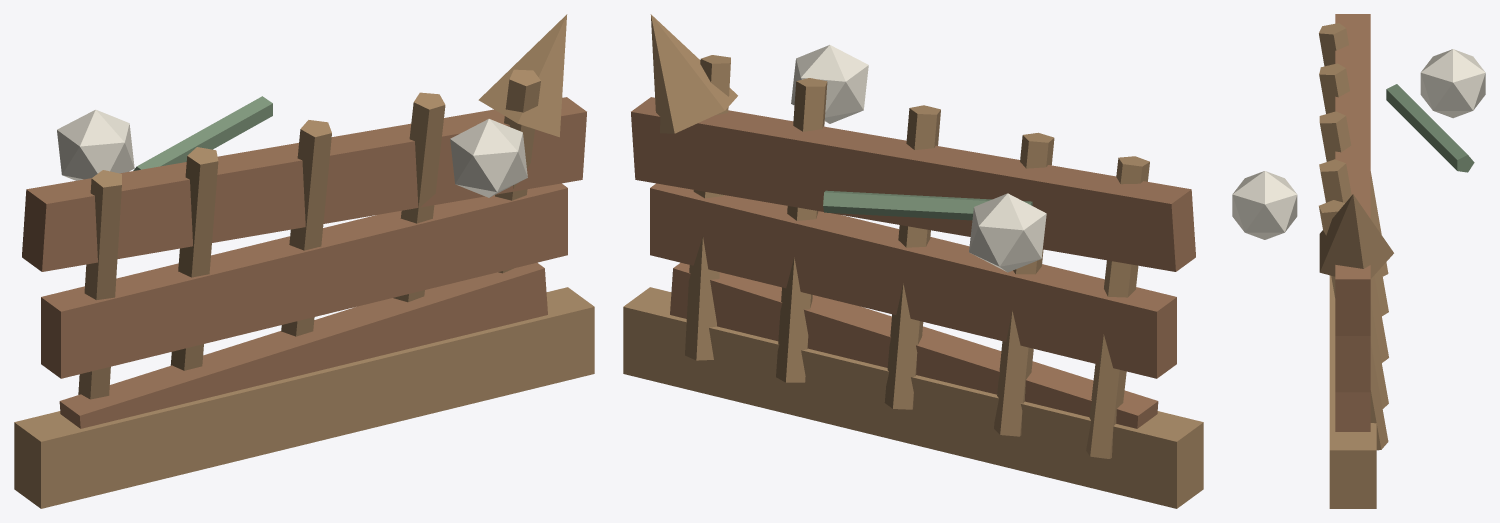
Rendered from wreck_hull_section.glb.
3 renders of one model, left to right at view 1: azimuth 30°, elevation 25°; view 2: azimuth 150°, elevation 25°; view 3: azimuth 270°, elevation 25°, orthographic. The views are drawn at different scales.
Visible parts, largest first — view 1: keel, plank_1, plank_2, plank_0, barnacle_1, splinter, rib_0, barnacle_0, rib_1, rib_2, rib_3, rope (+1 smaller); view 2: plank_1, plank_2, keel, plank_0, splinter, rib_2, rib_3, rib_0, barnacle_0, rib_1, rib_4, barnacle_1 (+1 smaller); view 3: plank_2, keel, splinter, barnacle_0, barnacle_1, rope, plank_1, rib_2, rib_3, rib_4, rib_1, plank_0 (+1 smaller).
Boxes of the visible parts, bbox=[...] form: keel: bbox=[14, 287, 594, 508]; plank_1: bbox=[41, 183, 567, 378]; plank_2: bbox=[22, 97, 586, 271]; plank_0: bbox=[59, 262, 547, 428]; barnacle_1: bbox=[450, 119, 527, 197]; splinter: bbox=[478, 14, 567, 137]; rib_0: bbox=[78, 170, 121, 399]; barnacle_0: bbox=[57, 109, 134, 180]; rib_1: bbox=[170, 147, 218, 370]; rib_2: bbox=[281, 120, 331, 336]; rib_3: bbox=[393, 92, 445, 302]; rope: bbox=[133, 96, 272, 170]; plank_1: bbox=[650, 183, 1176, 378]; plank_2: bbox=[631, 97, 1195, 271]; keel: bbox=[623, 287, 1203, 508]; plank_0: bbox=[670, 262, 1158, 428]; splinter: bbox=[650, 14, 737, 133]; rib_2: bbox=[884, 105, 940, 409]; rib_3: bbox=[776, 78, 827, 382]; rib_0: bbox=[1086, 156, 1149, 458]; barnacle_0: bbox=[969, 193, 1046, 272]; rib_1: bbox=[994, 132, 1054, 436]; rib_4: bbox=[685, 55, 730, 360]; barnacle_1: bbox=[791, 45, 868, 123]; plank_2: bbox=[1335, 14, 1370, 335]; keel: bbox=[1329, 275, 1376, 508]; splinter: bbox=[1319, 194, 1393, 278]; barnacle_0: bbox=[1420, 49, 1485, 118]; barnacle_1: bbox=[1232, 171, 1297, 239]; rope: bbox=[1386, 84, 1474, 172]; plank_1: bbox=[1335, 336, 1370, 392]; rib_2: bbox=[1319, 111, 1388, 362]; rib_3: bbox=[1319, 159, 1388, 408]; rib_4: bbox=[1319, 200, 1388, 450]; rib_1: bbox=[1319, 63, 1388, 316]; plank_0: bbox=[1335, 392, 1370, 431].
Bounding box in the file's own units: 1.9 × 1.16 × 0.8612.
